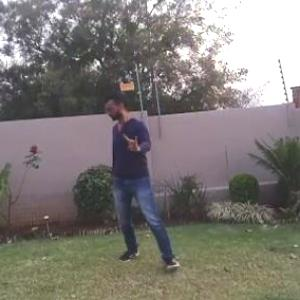takeoff-hand: (119, 126, 149, 160)
